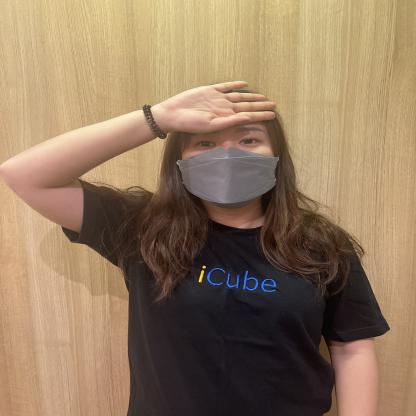Sick: (127, 73, 301, 148)
